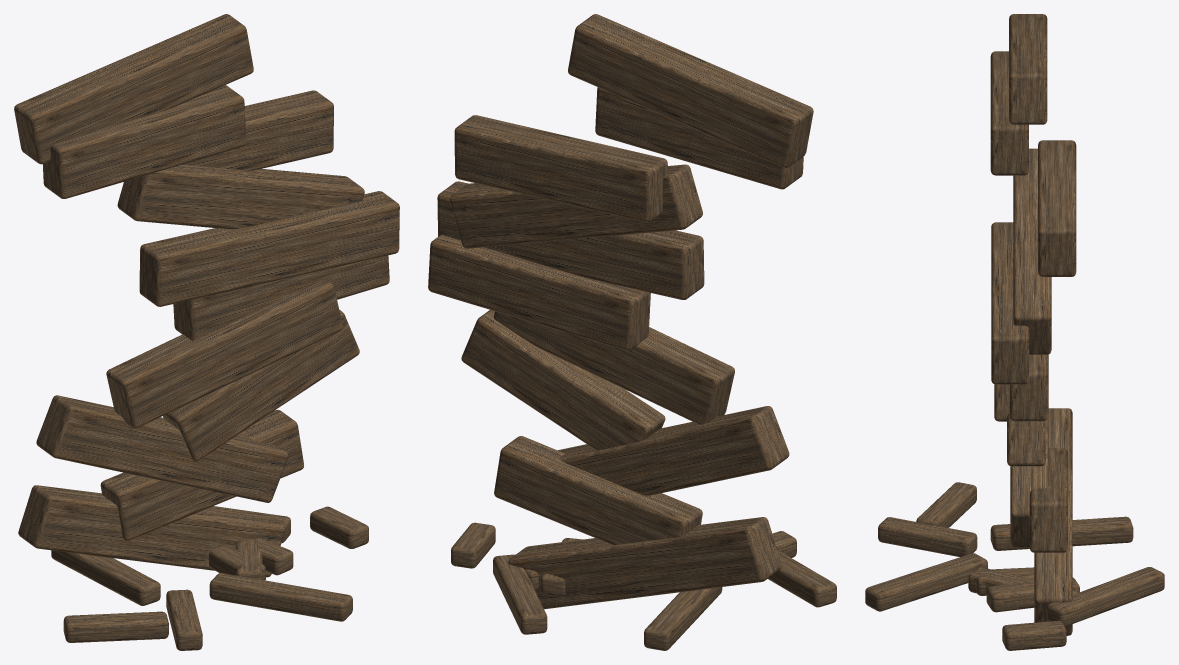
File: fissure_blocked.glb
3 renders of one model, left to right at view 1: azimuth 30°, elevation 25°; view 2: azimuth 150°, elevation 25°; view 3: azimuth 270°, elevation 25°, orthographic. The views are drawn at different scales.
Visible parts, largest first — view 1: fissure_blocked_mesh; view 2: fissure_blocked_mesh; view 3: fissure_blocked_mesh.
Part boxes in pixels (bbox=[...]): fissure_blocked_mesh: bbox=[14, 14, 399, 650]; fissure_blocked_mesh: bbox=[428, 14, 836, 650]; fissure_blocked_mesh: bbox=[865, 14, 1164, 650].
Size of the model in its own units: 1.56 by 2.36 by 1.18.
1 material, 1 textured.
